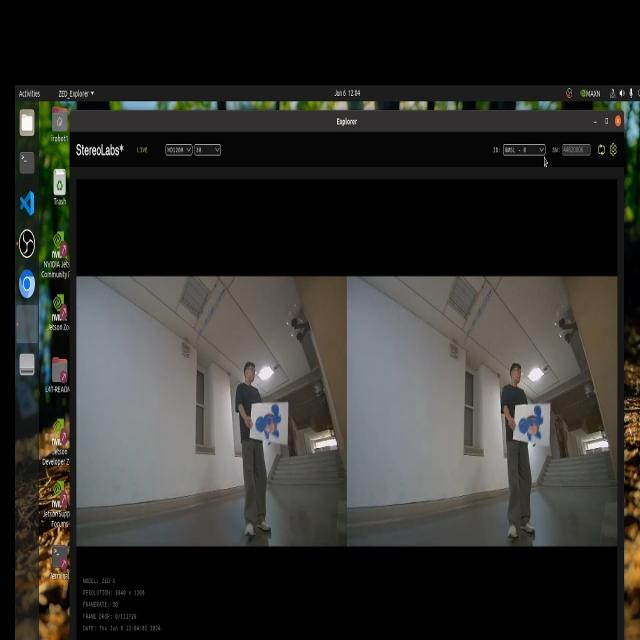blue: (249, 406, 291, 446), (514, 398, 542, 446)
